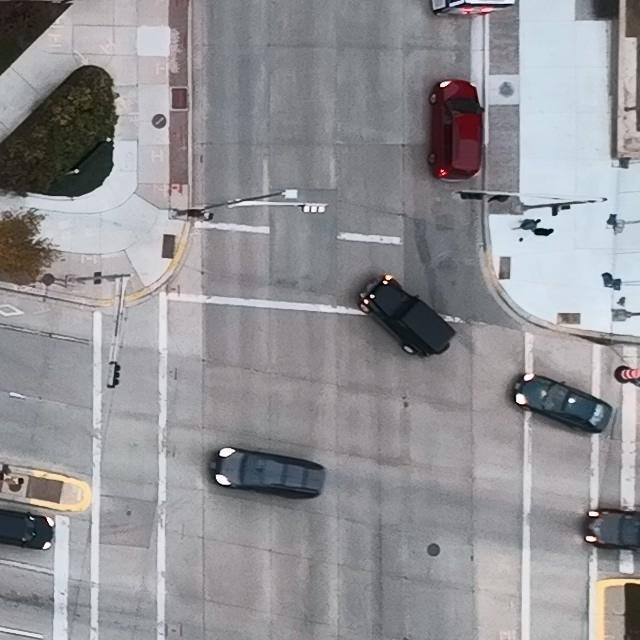car: (358, 274, 455, 358), (512, 374, 612, 434), (428, 81, 486, 181), (212, 448, 324, 498), (582, 508, 640, 551), (0, 508, 55, 550)
